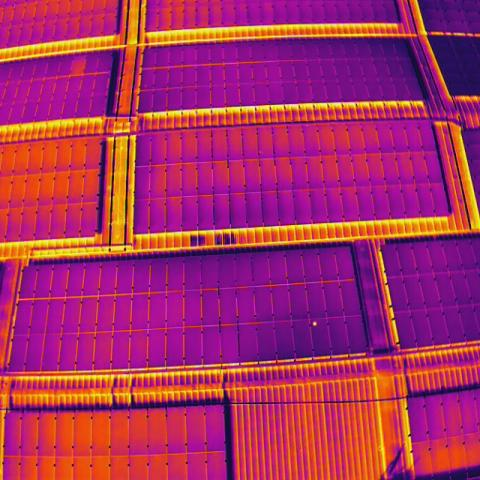fault: (311, 321, 318, 327)
